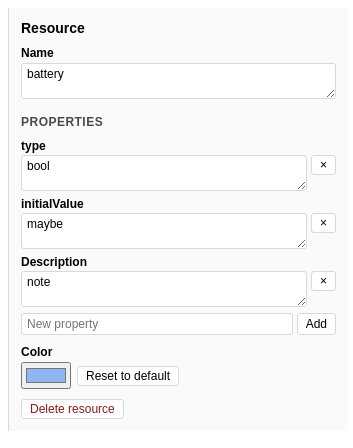
it: IstarInspector › reset to default colour removes backgroundColor from display
What coordinates should you click on to do the following:
click the button "Reset to default"
I would click on:
 (128, 376)
Its box is 77,366 -> 179,386.
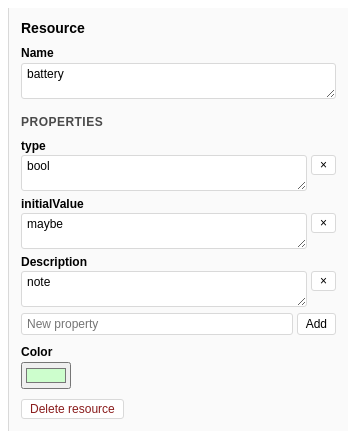
expect the button "Reset to default" is gone: met
